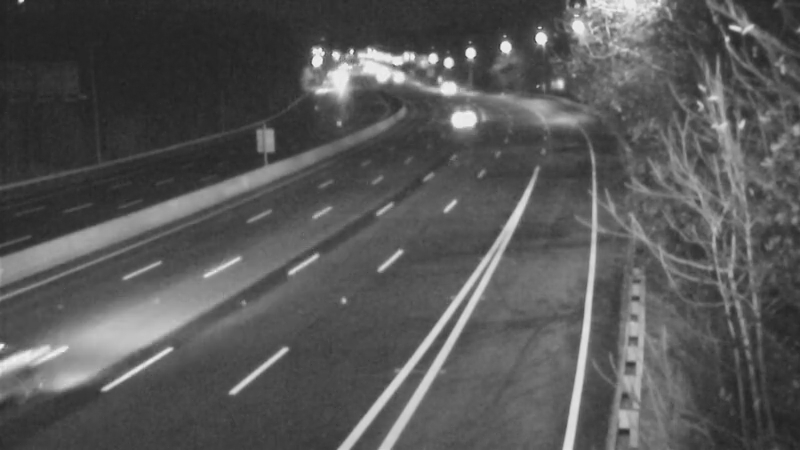vehicle: (373, 50, 423, 100), (420, 63, 470, 113), (437, 93, 487, 143)
